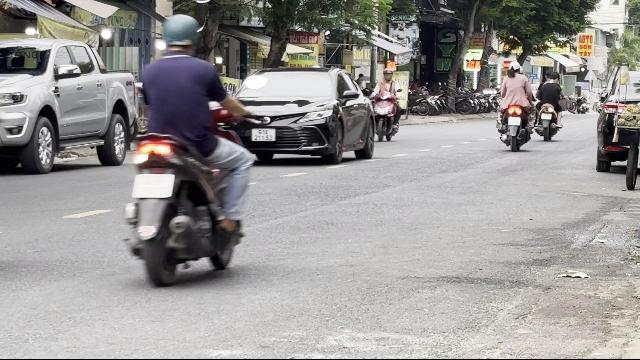helmet: (158, 12, 202, 56)
licenseplate: (133, 173, 173, 196)
motorcyclist: (122, 12, 262, 286)
